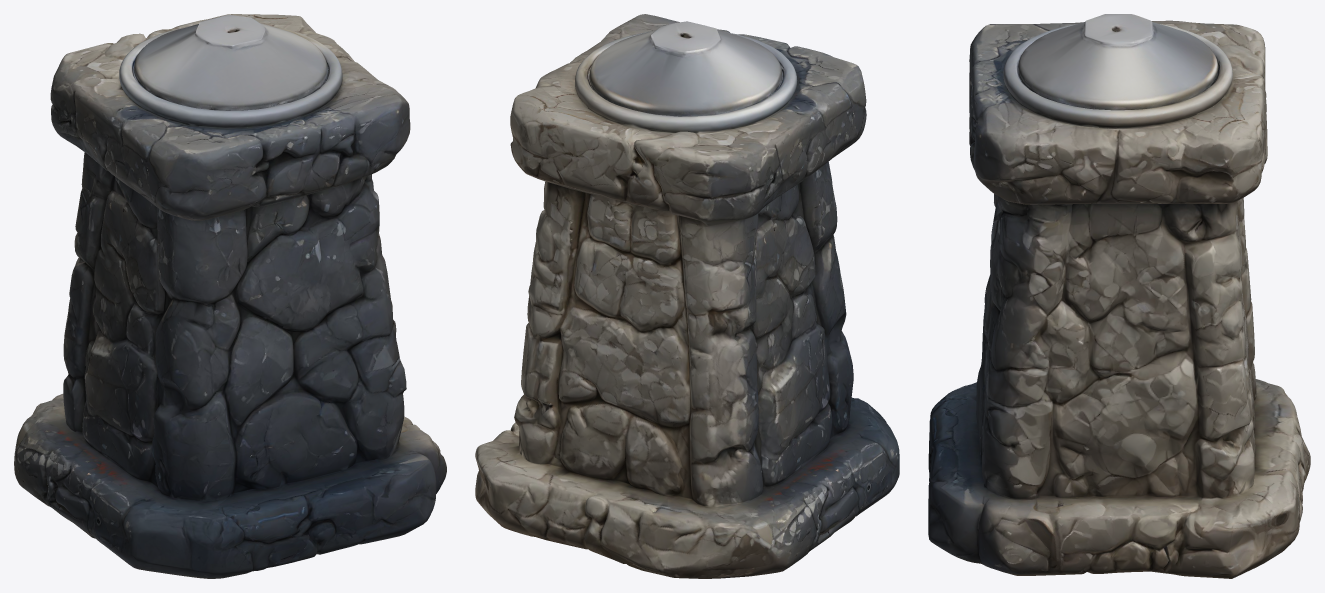
File: plaza-bollard.glb
3 views of the same model, side by side, from view 1: azimuth 30°, elevation 25°; view 2: azimuth 150°, elevation 25°; view 3: azimuth 270°, elevation 25° (orthographic). The views are drawn at different scales.
Visible parts, largest first — view 1: tripo_node_ce607127-e5b3-4e96-a094-d4a89a395c8e; view 2: tripo_node_ce607127-e5b3-4e96-a094-d4a89a395c8e; view 3: tripo_node_ce607127-e5b3-4e96-a094-d4a89a395c8e.
Part boxes in pixels (<box>): tripo_node_ce607127-e5b3-4e96-a094-d4a89a395c8e: <box>14,14,446,578</box>; tripo_node_ce607127-e5b3-4e96-a094-d4a89a395c8e: <box>475,14,899,578</box>; tripo_node_ce607127-e5b3-4e96-a094-d4a89a395c8e: <box>928,14,1310,578</box>.
Bounding box in the file's own units: 0.5734 × 0.8 × 0.5822.
1 material, 1 textured.
